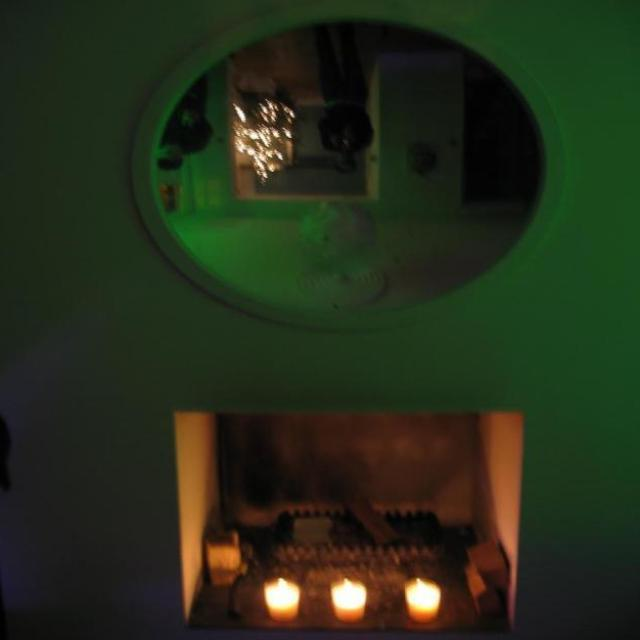smoke: (404, 571, 445, 612), (260, 576, 300, 612), (331, 577, 366, 611)
